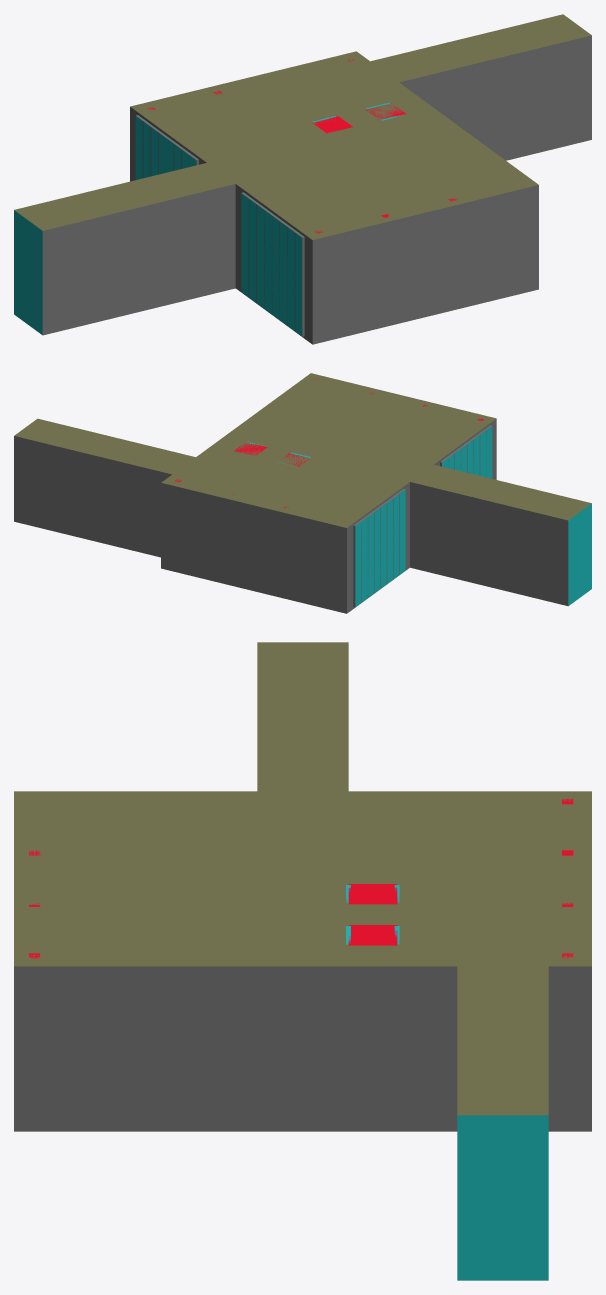
File: lobby.glb
3 renders of one model, top to bottom at view 1: azimuth 30°, elevation 25°; view 2: azimuth 150°, elevation 25°; view 3: azimuth 270°, elevation 25°, orthographic. The views are drawn at different scales.
Parts seen in each view (by area): view 1: building, windows, elevators; view 2: building, windows, elevators; view 3: building, elevators.
Boxes of the visible parts, <box> form: building: <box>14,14,591,344</box>; windows: <box>130,107,312,344</box>; elevators: <box>312,102,405,133</box>; building: <box>14,373,591,613</box>; windows: <box>347,419,496,613</box>; elevators: <box>234,442,310,466</box>; building: <box>14,642,591,1280</box>; elevators: <box>346,884,399,945</box>.
Bounding box in the file's own units: 45.98 × 7.5 × 23.74.
